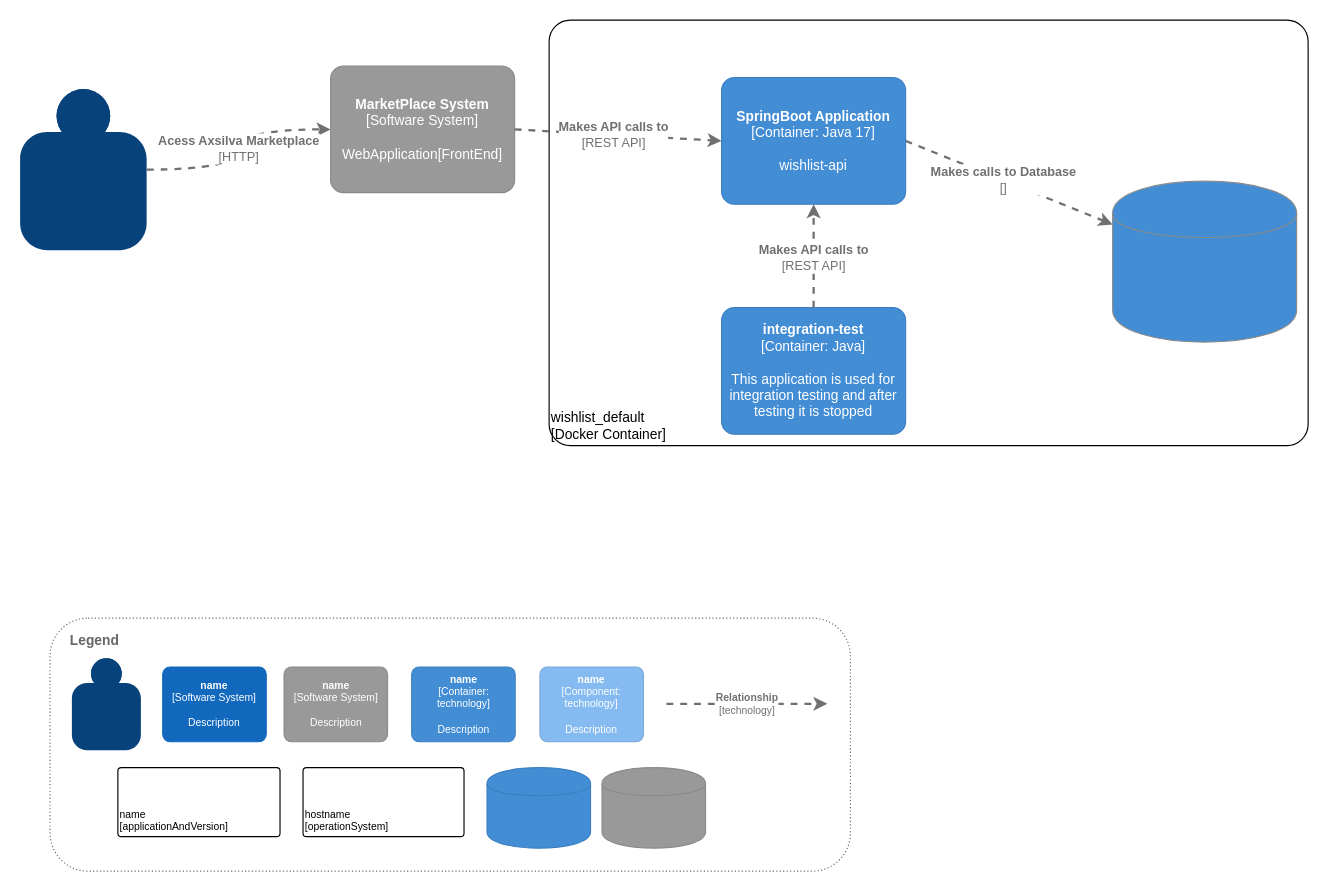
The diagram is 1328 pixels wide and 891 high, and some of its shapes have lost their labels. Each missing label, with the centre of its shape:
Client [Person]: point 83,169
Database [Container: MongoDB] WishListDataBase: point 1204,261
Database [Container: Technology] Description: point 538,807
Database [Container: Technology] External: point 653,807
name [Person] Description: point 105,704
